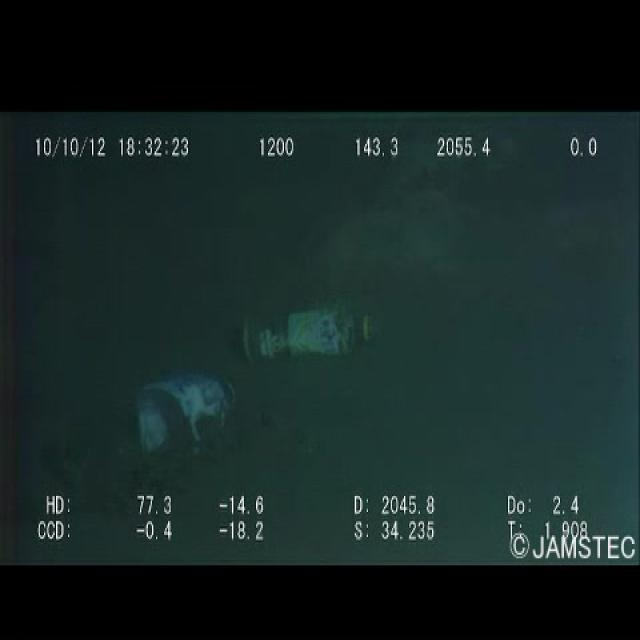plastic: (28, 359, 263, 491), (222, 284, 386, 377)
